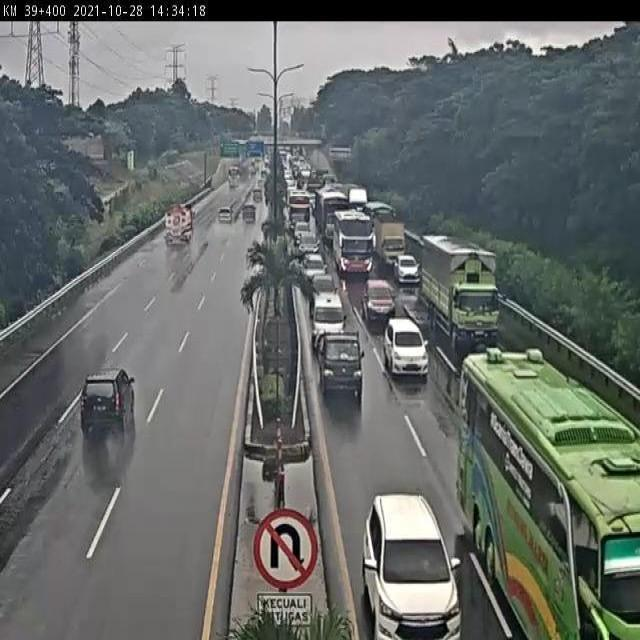car: (363, 494, 461, 640), (80, 372, 140, 433), (313, 327, 366, 392), (384, 317, 430, 375), (309, 292, 346, 345), (156, 207, 195, 253), (362, 275, 395, 325), (393, 250, 417, 282), (212, 202, 235, 234), (341, 251, 367, 279), (306, 274, 336, 298), (297, 239, 318, 267), (239, 199, 261, 225), (296, 224, 318, 248), (250, 182, 269, 206), (302, 251, 323, 271), (292, 220, 309, 240)
truck: (458, 345, 640, 640), (419, 234, 502, 342), (330, 205, 373, 275), (364, 203, 404, 267), (314, 190, 347, 242), (285, 191, 313, 232)
